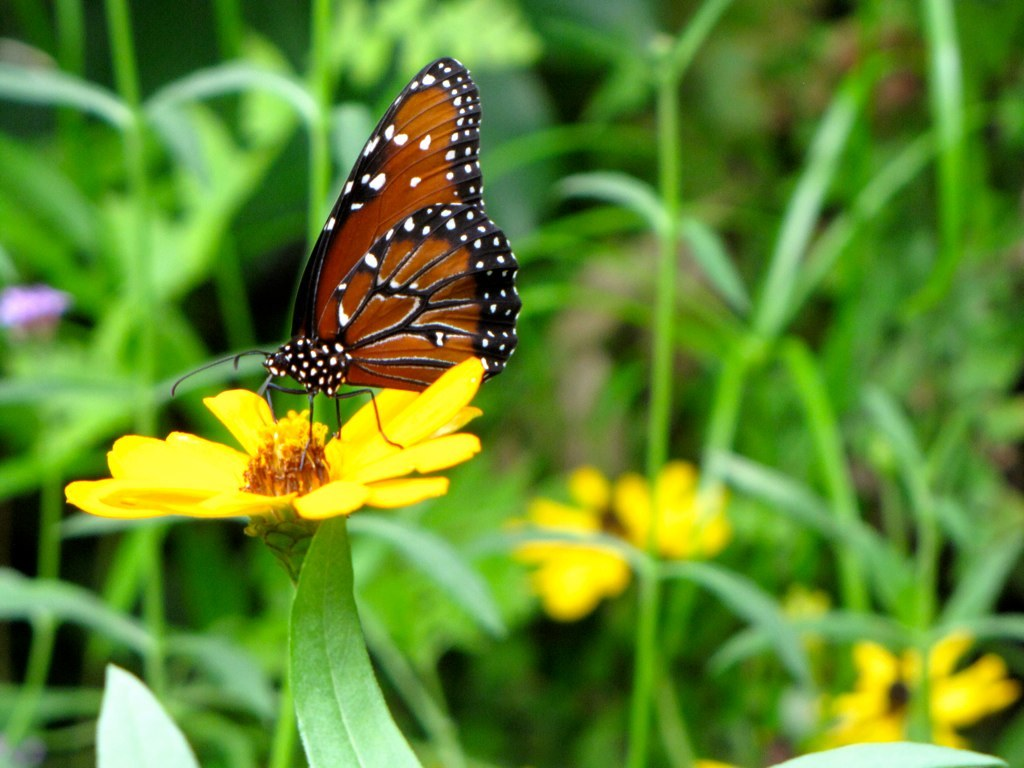Butterfly: (241, 24, 527, 415)
